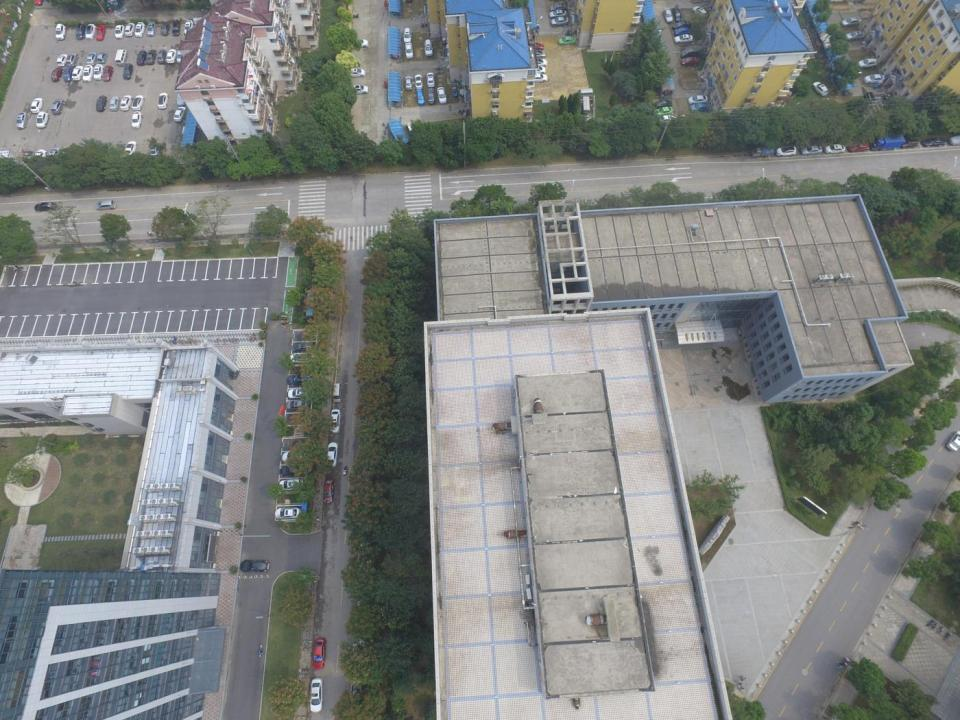car: (309, 678, 323, 712), (313, 638, 326, 670), (353, 640, 366, 670), (356, 600, 368, 630), (945, 430, 960, 452), (352, 681, 363, 711), (275, 506, 300, 519), (240, 560, 269, 571), (323, 478, 335, 503), (326, 442, 338, 467), (278, 478, 303, 490), (329, 409, 340, 434), (922, 137, 947, 148), (20, 150, 34, 169), (801, 144, 823, 156), (281, 451, 304, 462), (36, 110, 50, 128), (811, 82, 829, 96), (280, 465, 302, 476), (34, 201, 56, 212), (848, 141, 870, 152), (863, 73, 885, 84), (34, 150, 47, 168), (130, 111, 143, 129), (857, 58, 878, 69), (845, 30, 866, 41), (841, 17, 862, 28), (48, 147, 60, 166), (16, 111, 28, 130), (50, 99, 65, 114), (95, 200, 117, 210), (776, 146, 796, 157), (824, 144, 846, 154), (654, 106, 674, 117), (82, 64, 94, 82), (120, 95, 133, 111), (30, 98, 43, 114), (864, 92, 877, 108), (96, 95, 108, 112), (122, 63, 134, 80), (658, 115, 678, 125), (680, 56, 700, 66), (50, 67, 64, 81), (174, 106, 186, 122), (157, 93, 169, 109), (132, 94, 144, 110), (165, 48, 177, 64), (136, 50, 148, 66), (687, 96, 708, 105), (55, 23, 66, 40), (93, 64, 104, 81), (102, 65, 113, 82), (74, 23, 85, 40), (71, 66, 84, 80), (134, 22, 146, 37), (86, 51, 98, 66), (350, 84, 368, 94), (558, 36, 576, 46), (549, 9, 567, 19), (115, 142, 126, 158), (175, 48, 186, 64), (85, 24, 96, 40), (902, 138, 918, 149), (347, 68, 366, 77), (550, 17, 569, 26), (176, 89, 186, 106), (404, 42, 414, 59), (424, 39, 434, 56), (550, 2, 567, 12), (150, 142, 162, 156), (114, 24, 126, 38), (109, 96, 120, 111), (146, 49, 157, 64), (654, 99, 672, 108), (691, 103, 709, 112), (63, 66, 73, 82), (96, 25, 106, 41), (183, 20, 193, 36), (66, 54, 78, 67), (126, 141, 137, 155), (125, 23, 136, 37), (403, 27, 412, 44), (437, 87, 446, 104), (416, 88, 425, 105), (158, 48, 167, 64), (56, 54, 68, 66), (530, 65, 546, 74), (161, 22, 171, 36), (352, 39, 369, 47), (428, 88, 436, 105), (529, 50, 546, 58), (414, 74, 423, 89), (172, 20, 180, 36), (531, 74, 547, 82), (532, 58, 548, 66), (147, 22, 156, 36), (426, 73, 435, 87), (404, 76, 412, 90), (97, 53, 108, 63), (949, 134, 960, 144), (530, 43, 544, 50)
truck: (870, 132, 905, 151), (751, 147, 774, 158)
van: (288, 374, 313, 386), (290, 352, 314, 364), (286, 400, 310, 411), (292, 341, 314, 352), (680, 48, 702, 59), (288, 389, 311, 399), (673, 34, 694, 44), (115, 50, 128, 66), (662, 8, 674, 24), (692, 6, 708, 18), (672, 21, 691, 30), (578, 88, 593, 99), (333, 384, 342, 402), (672, 6, 682, 22), (674, 28, 690, 36)
